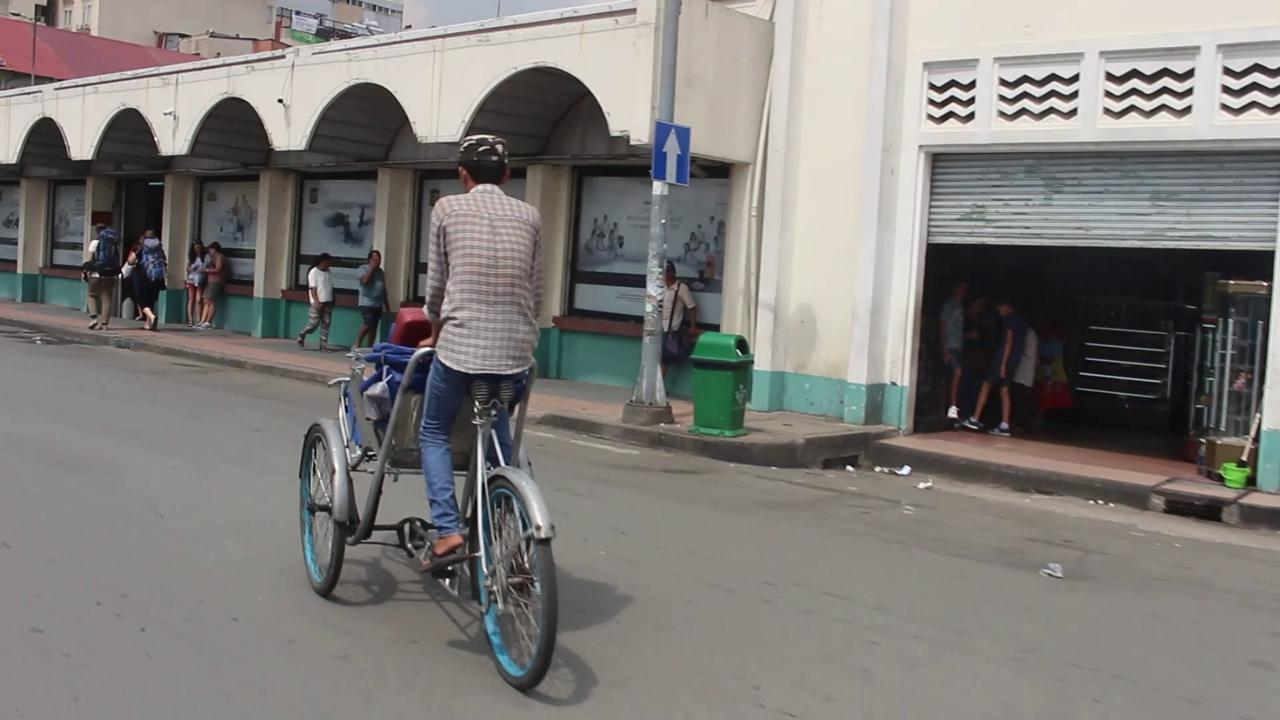P.124c: (651, 115, 693, 187)
